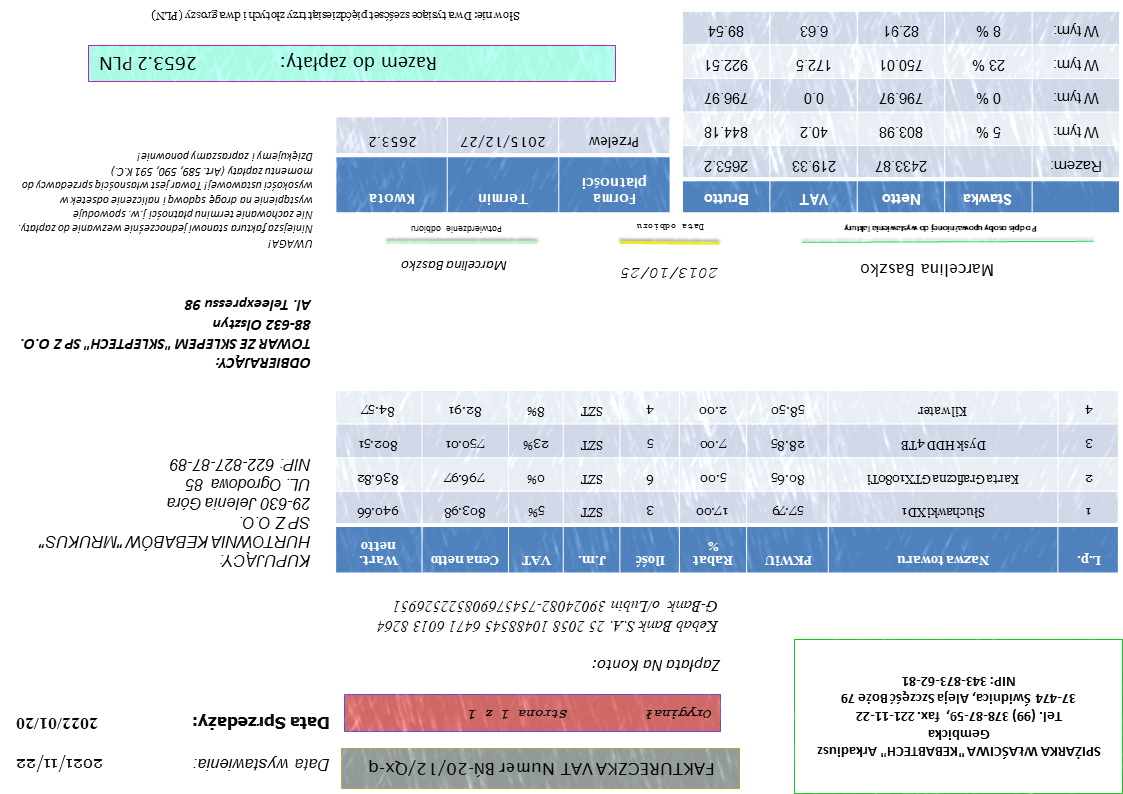Table: (333, 390, 1120, 577), (681, 10, 1121, 213), (335, 116, 672, 214)
TextBox: (36, 455, 315, 572), (18, 148, 316, 252), (816, 673, 1105, 764), (18, 295, 315, 374), (375, 597, 720, 638), (366, 756, 719, 780), (100, 52, 439, 76), (149, 7, 523, 26), (464, 703, 715, 724), (188, 710, 332, 734), (192, 753, 333, 776), (588, 655, 723, 677), (842, 221, 1040, 235), (860, 261, 996, 279), (13, 753, 108, 775), (399, 257, 509, 274), (617, 265, 721, 282), (12, 714, 102, 733), (409, 223, 504, 236), (635, 221, 706, 235)
